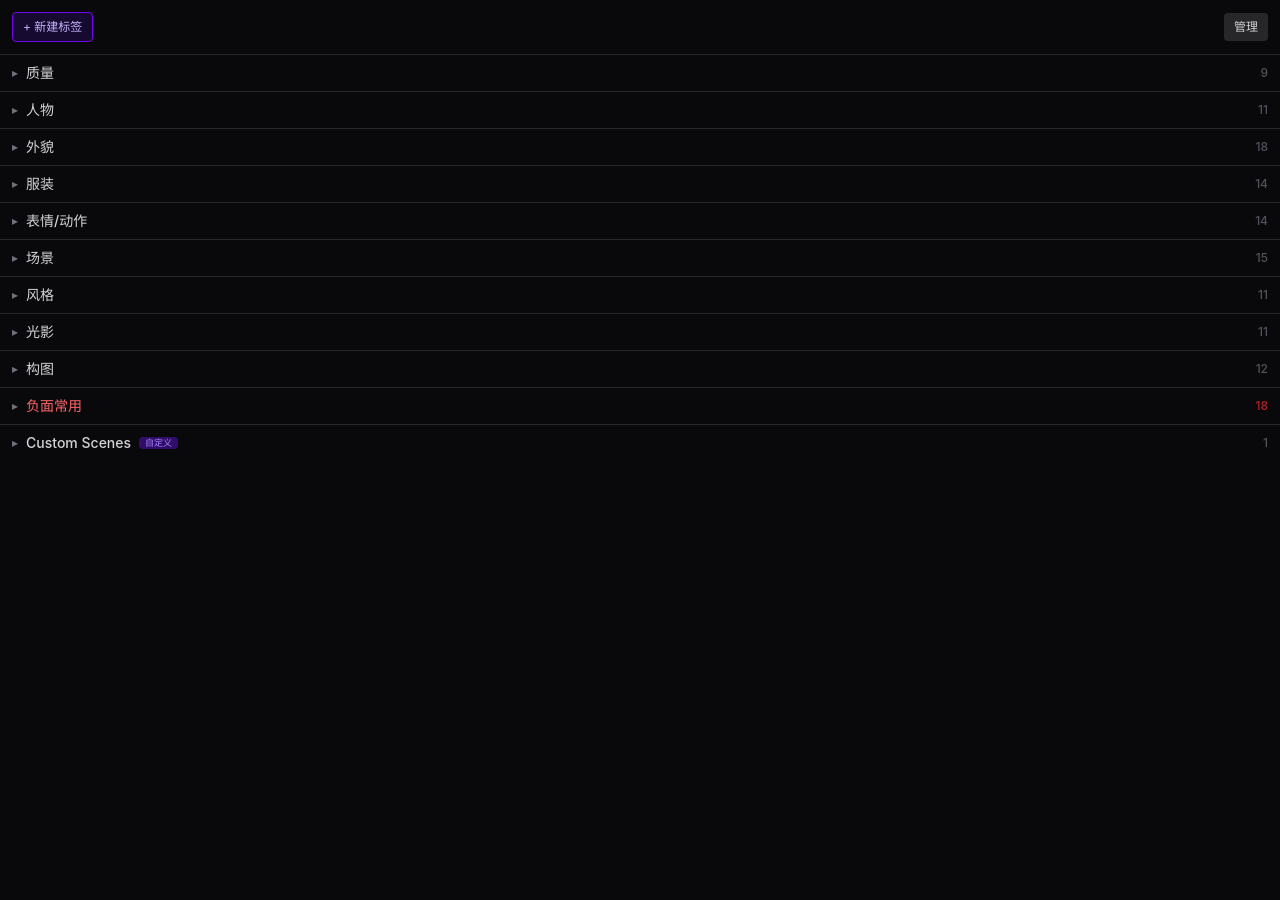
Test: TagLibrary custom tags › shows translation metadata for custom tags in the manage modal
The image size is (1280, 900).
Step 1. Click the button "管理" → {"x": 1246, "y": 27}, box [1224, 13, 1268, 41]
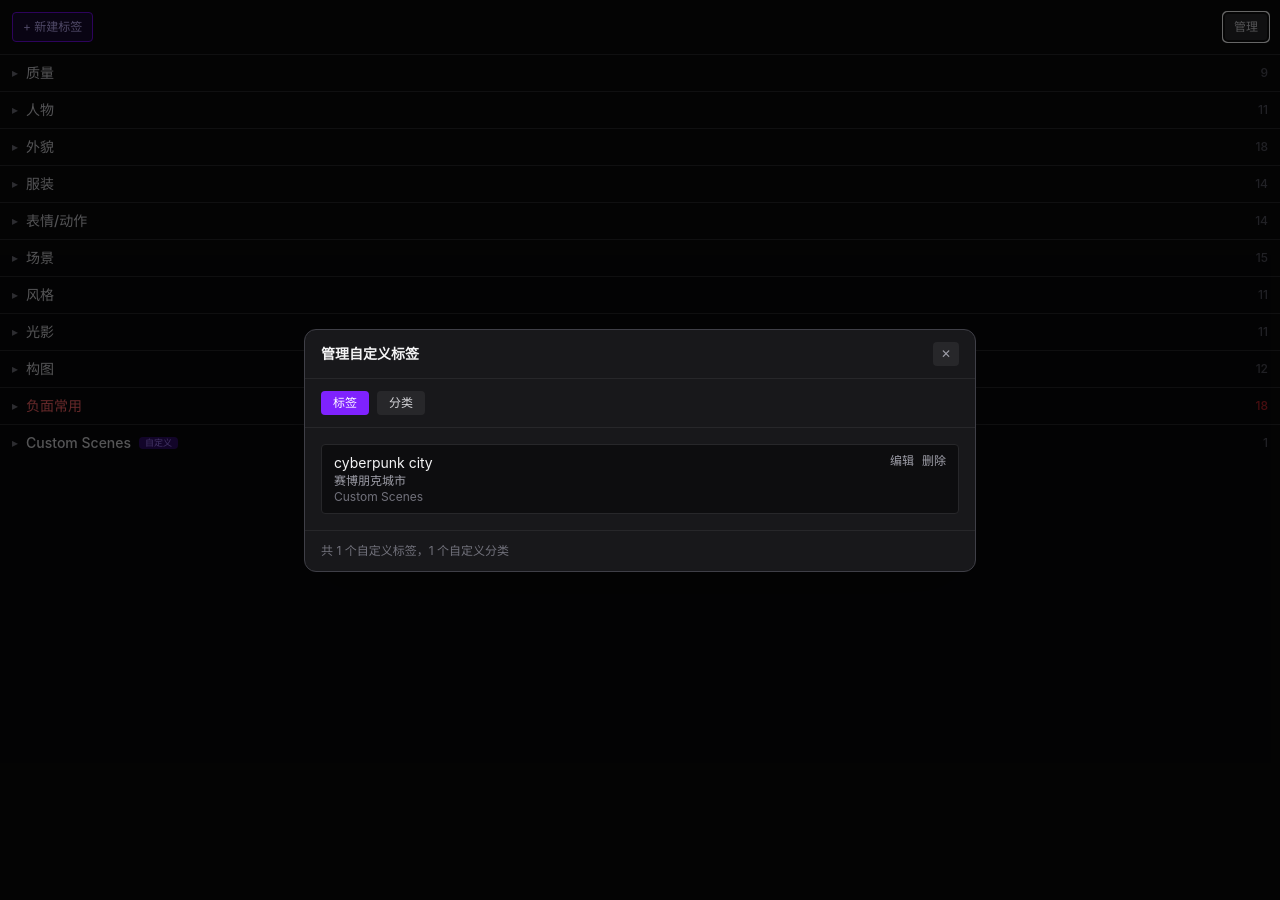
Result: the text "赛博朋克城市" is shown at [334, 472, 406, 488]
